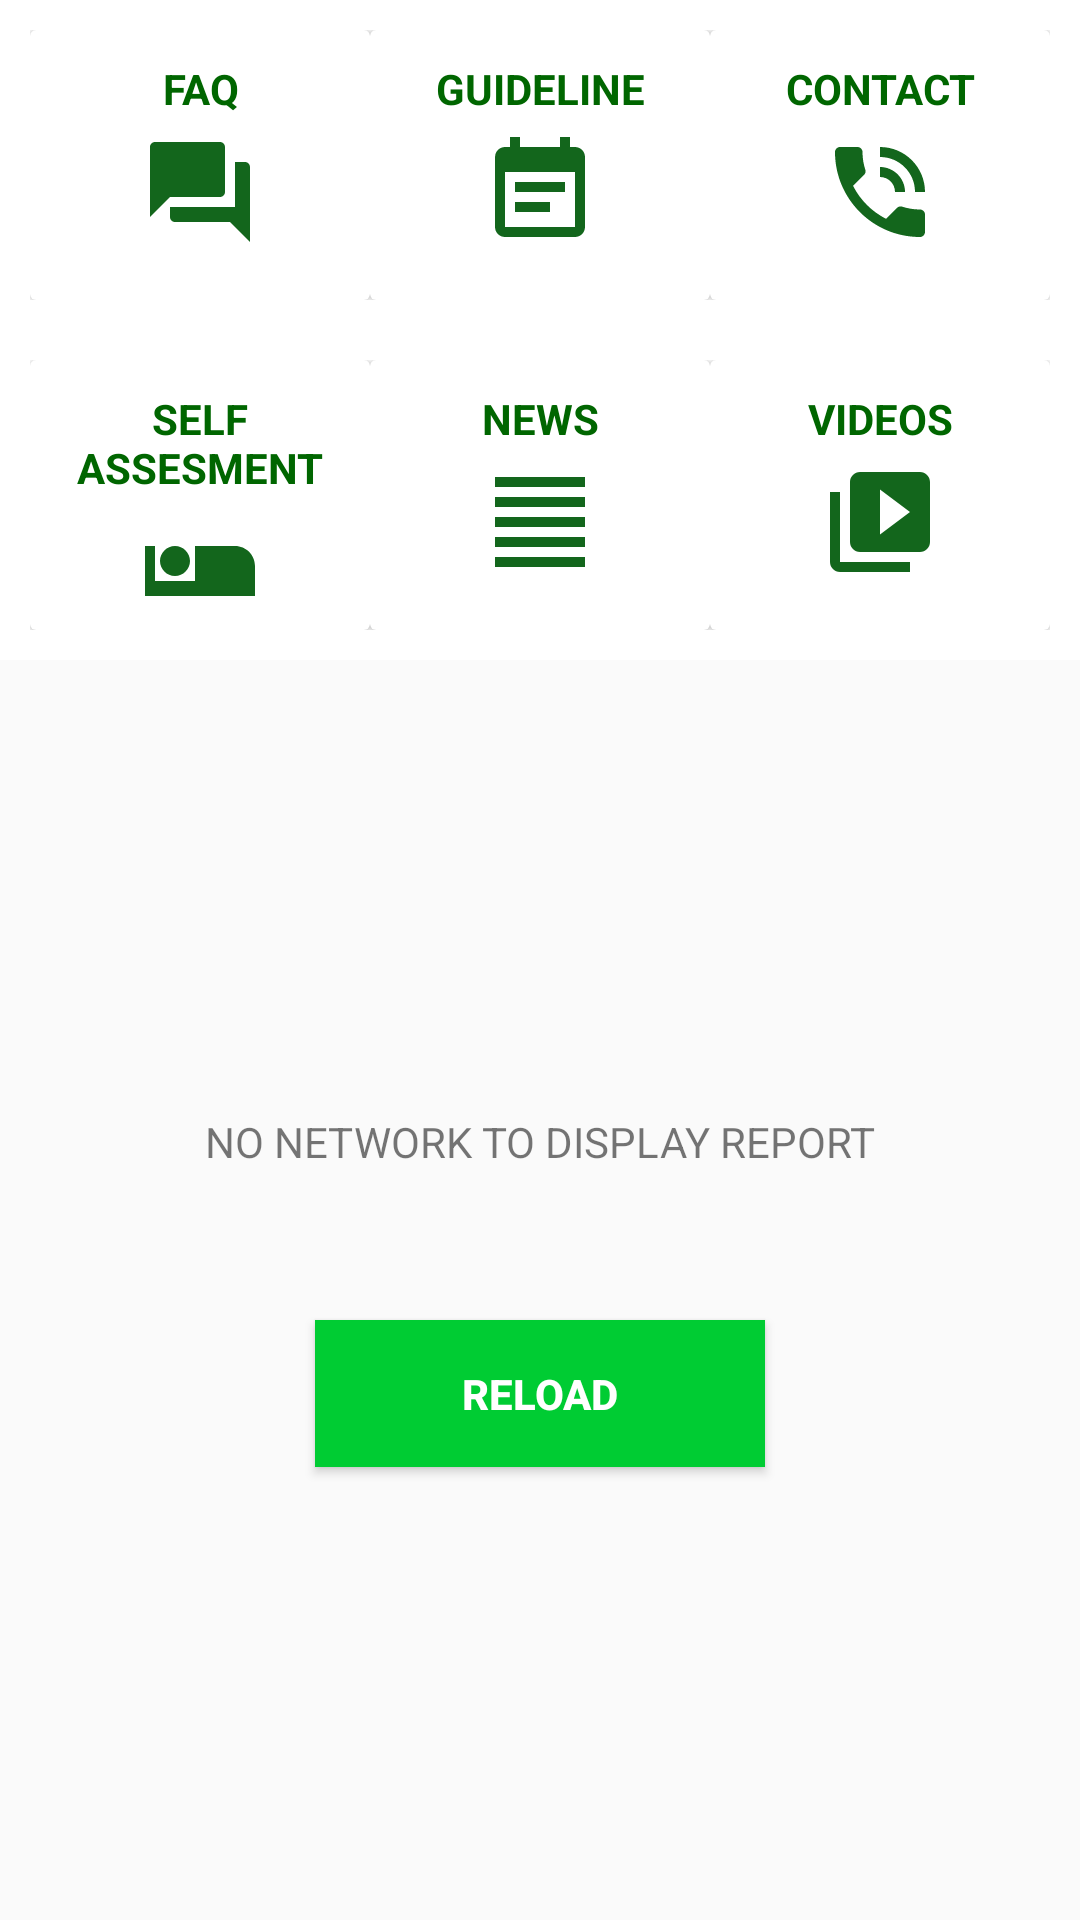

Named icons in this screenshot (1080px×1920px) and their centers, (x=x, y=y):
event note: (x=540, y=187)
format align justify: (x=540, y=522)
phone in talk: (x=880, y=192)
question answer: (x=200, y=192)
video library: (x=880, y=522)
